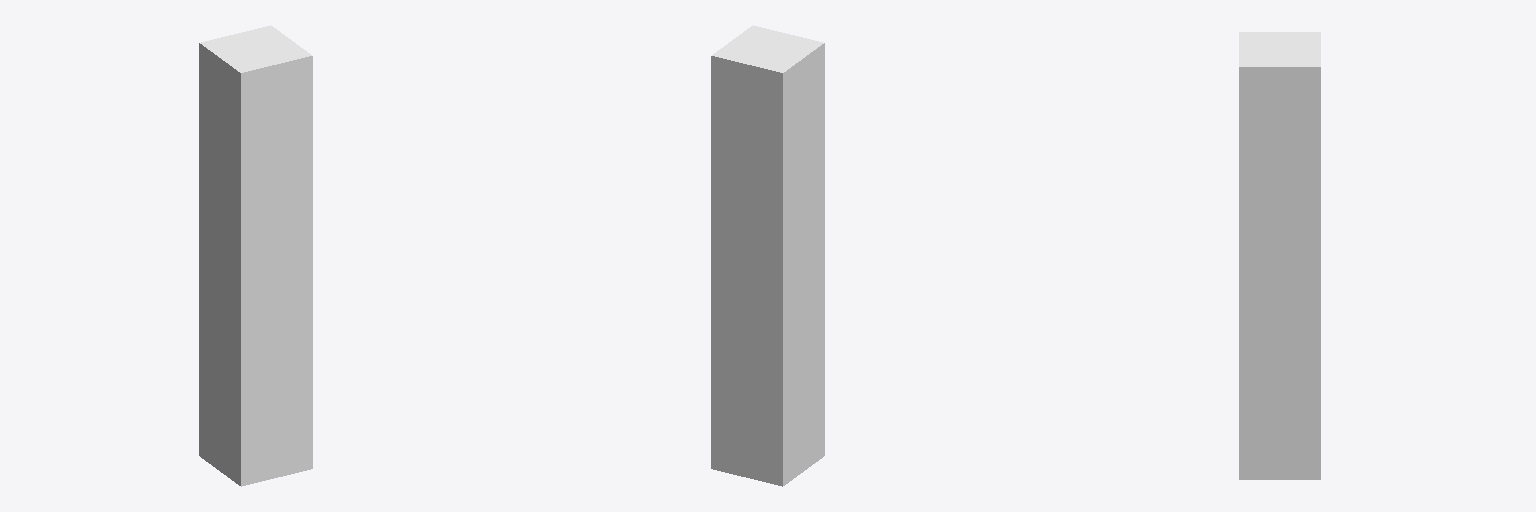
File: Skeleton1-0.obj
The picture shows the model from 3 angles: view 1: azimuth 30°, elevation 25°; view 2: azimuth 150°, elevation 25°; view 3: azimuth 270°, elevation 25°; orthographic projection.
Visible parts, largest first — view 1: object 1; view 2: object 1; view 3: object 1.
Part boxes in pixels (bbox=[...]): object 1: bbox=[199, 25, 312, 486]; object 1: bbox=[711, 25, 824, 486]; object 1: bbox=[1239, 32, 1320, 479].
Bounding box in the file's own units: 0.2 × 1.1 × 0.2.